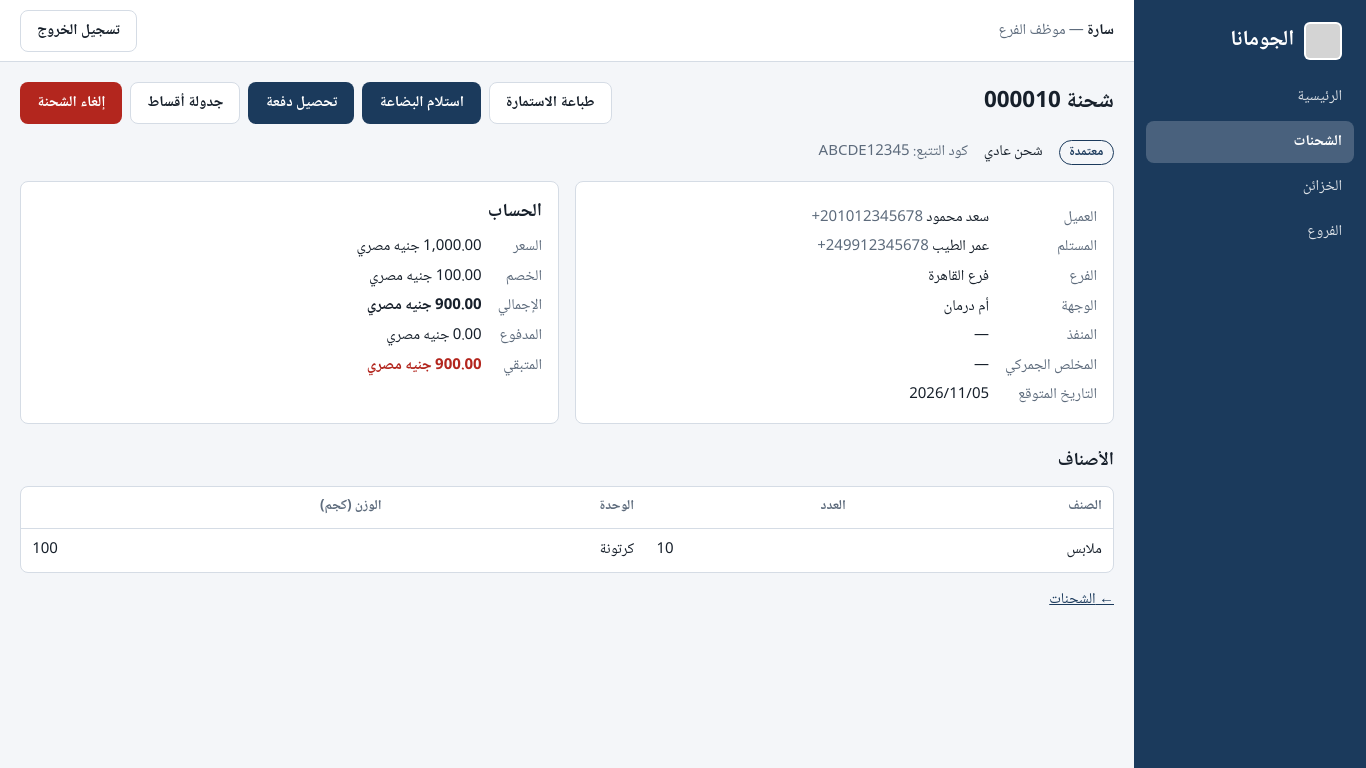
shipment file › collects a payment into the chosen treasury
Click the button "تحصيل دفعة" at (301, 103), box [248,82,354,124]
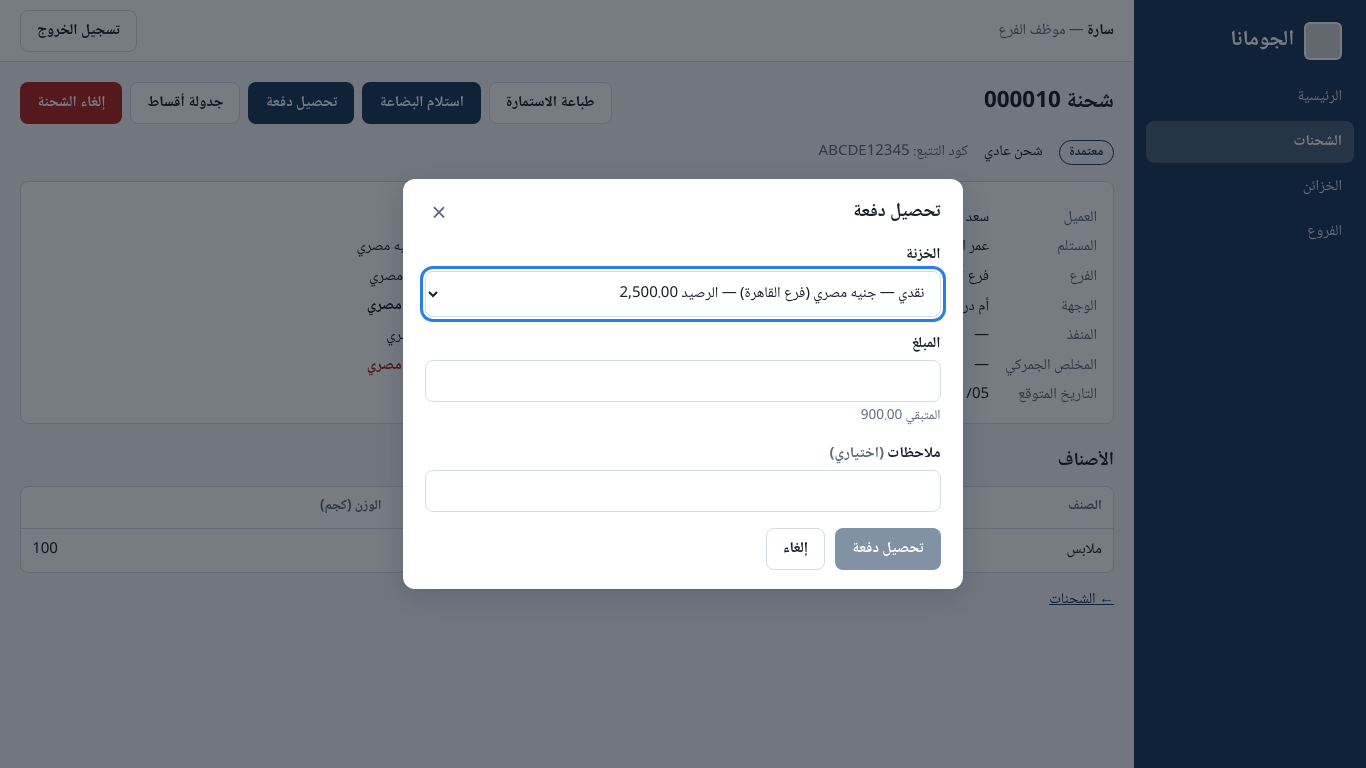
Type "300" into the field labelled "المبلغ" at (683, 381), box [425,360,941,402]
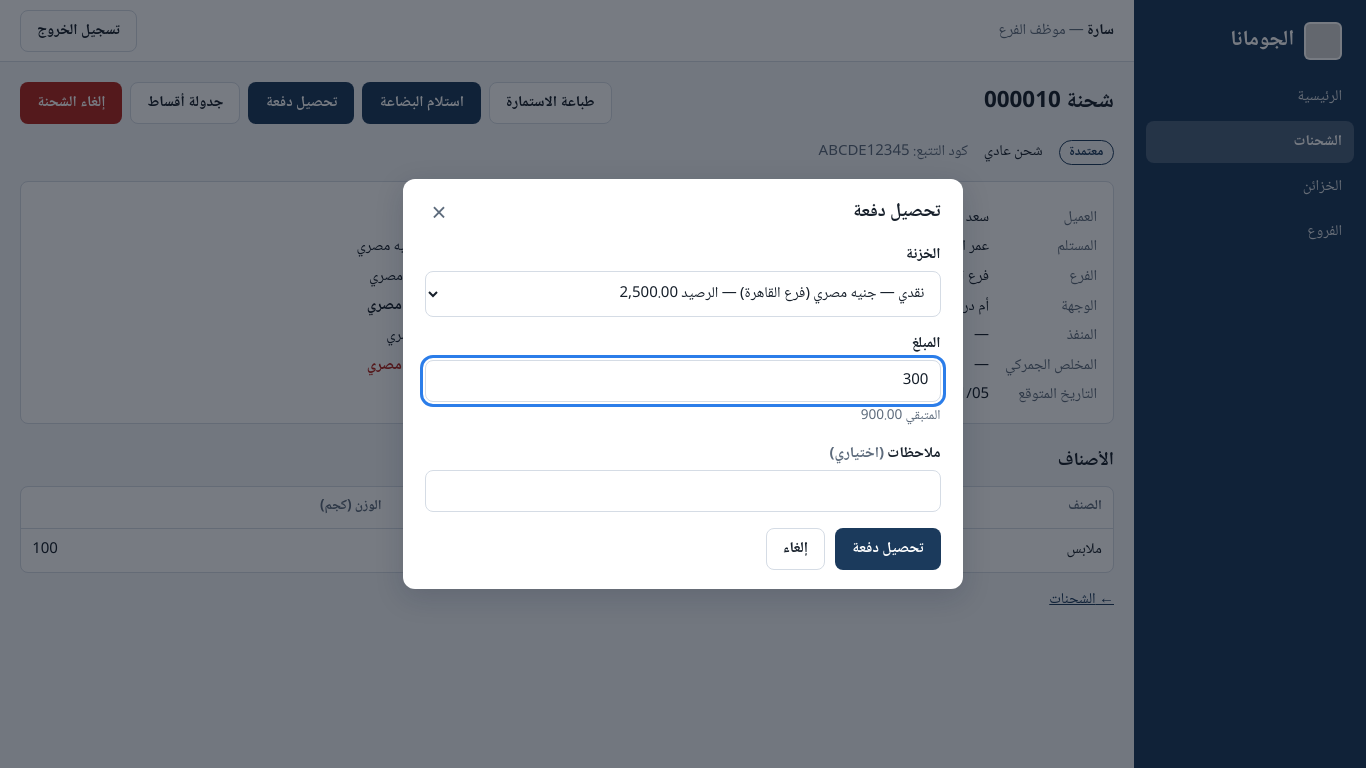
Click the button "تحصيل دفعة" at (888, 549), box [835,528,941,570]
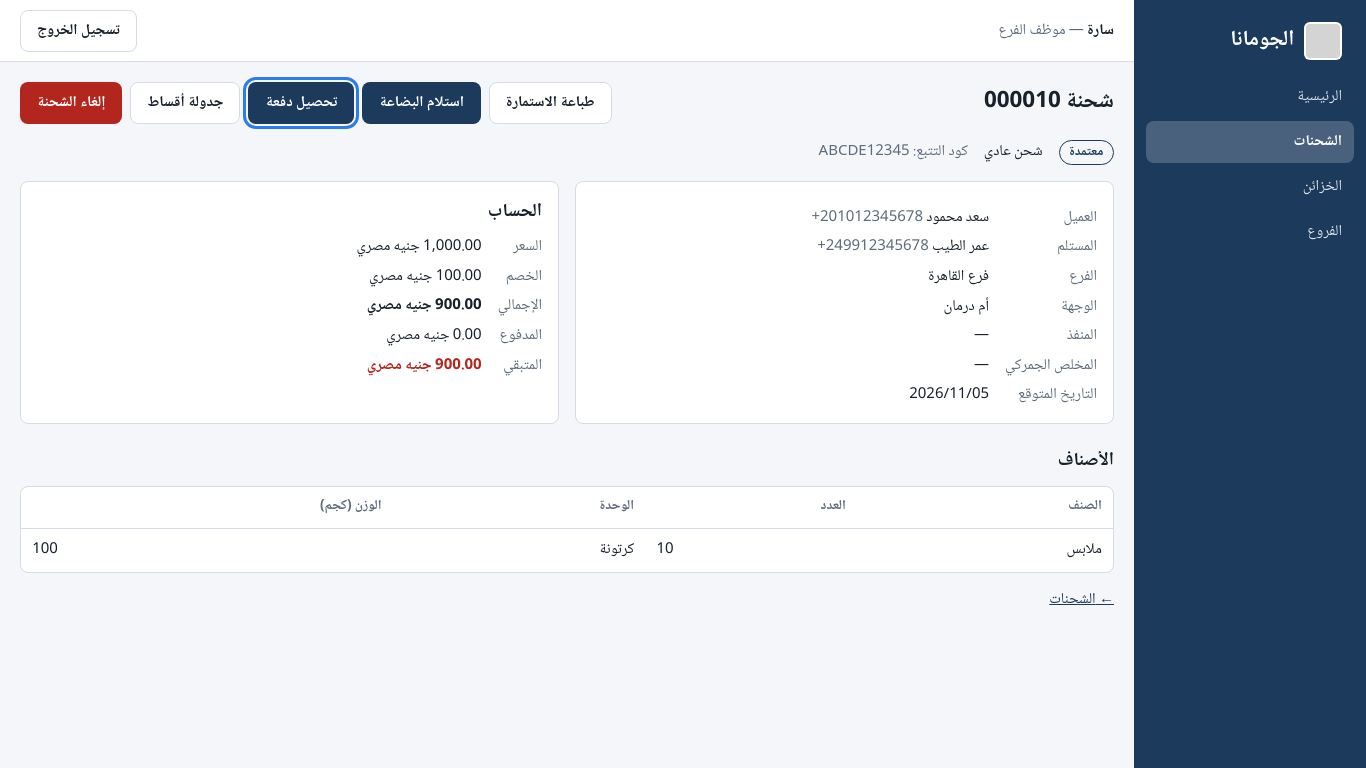
Expected: the dialog is gone
